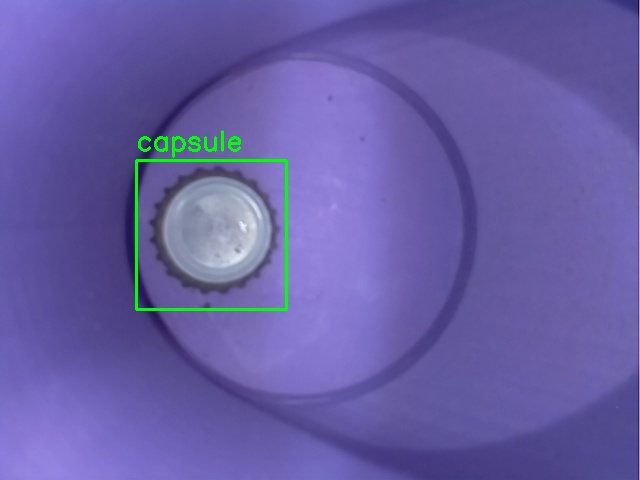capsule: (136, 160, 286, 309)
